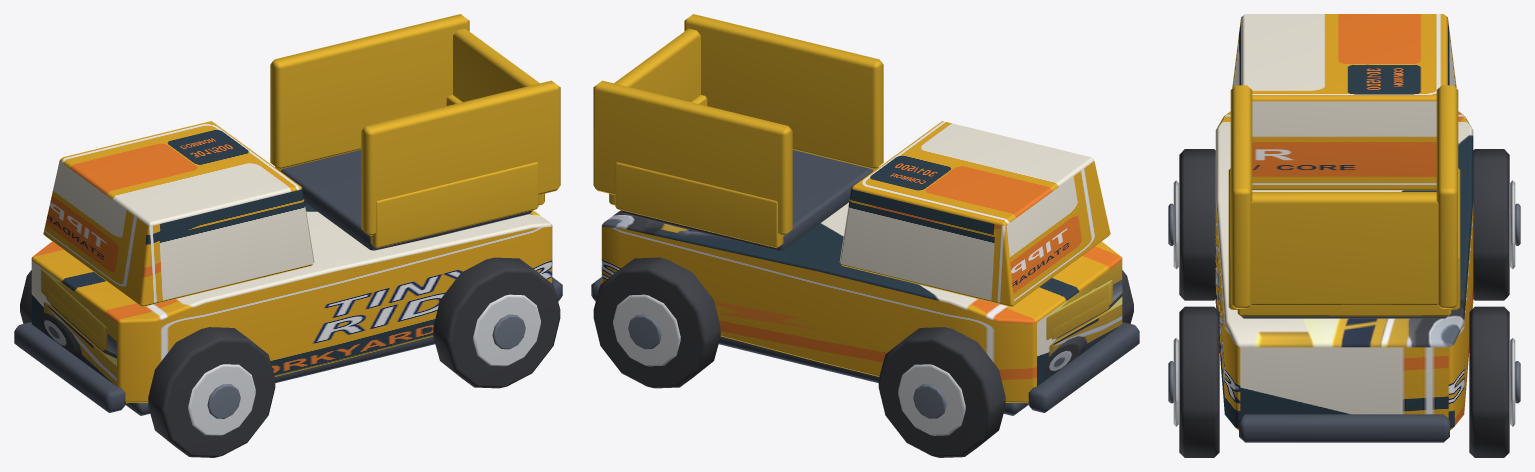
3 renders of one model, left to right at view 1: azimuth 30°, elevation 25°; view 2: azimuth 150°, elevation 25°; view 3: azimuth 270°, elevation 25°, orthographic. The views are drawn at different scales.
Parts seen in each view (by area): view 1: WY-01_connected_shell, WY-01_cabin, raised tipper wall.001, raised tipper wall, Tire, Tire.002, cargo side, cargo floor, raised tail gate, front bumper, Rim, Rim.002 (+3 smaller); view 2: WY-01_connected_shell, WY-01_cabin, raised tipper wall, raised tipper wall.001, Tire.001, Tire.003, cargo side.001, cargo floor, raised tail gate, front bumper, Rim.001, Rim.003 (+3 smaller); view 3: WY-01_cabin, WY-01_connected_shell, raised tail gate, Tire.002, Tire.003, rear bumper, Tire, Tire.001, raised tipper wall, raised tipper wall.001, cargo tail, cargo floor (+6 smaller).
Part boxes in pixels (x1,y1,x2,y2): WY-01_connected_shell: [31, 202, 552, 403]; WY-01_cabin: [43, 121, 314, 307]; raised tipper wall.001: [270, 14, 469, 169]; raised tipper wall: [361, 80, 560, 235]; Tire: [148, 327, 275, 457]; Tire.002: [433, 257, 560, 388]; cargo side: [370, 162, 538, 248]; cargo floor: [280, 150, 532, 250]; raised tail gate: [453, 28, 539, 101]; front bumper: [14, 322, 125, 412]; Rim: [188, 364, 255, 435]; Rim.002: [473, 294, 540, 366]; WY-01_connected_shell: [601, 202, 1122, 403]; WY-01_cabin: [839, 121, 1110, 307]; raised tipper wall: [684, 14, 883, 169]; raised tipper wall.001: [593, 80, 792, 235]; Tire.001: [878, 327, 1005, 457]; Tire.003: [593, 257, 720, 388]; cargo side.001: [615, 162, 783, 248]; cargo floor: [621, 150, 873, 250]; raised tail gate: [614, 28, 700, 101]; front bumper: [1028, 322, 1139, 412]; Rim.001: [898, 364, 965, 435]; Rim.003: [613, 294, 680, 366]; WY-01_cabin: [1232, 14, 1456, 190]; WY-01_connected_shell: [1215, 111, 1473, 430]; raised tail gate: [1250, 192, 1438, 305]; Tire.002: [1179, 306, 1219, 457]; Tire.003: [1469, 306, 1509, 457]; rear bumper: [1239, 414, 1449, 442]; Tire: [1179, 149, 1215, 300]; Tire.001: [1473, 149, 1509, 300]; raised tipper wall: [1230, 85, 1252, 308]; raised tipper wall.001: [1436, 85, 1458, 308]; cargo tail: [1237, 306, 1451, 316]; cargo floor: [1241, 316, 1447, 318].
Bounding box in the file's own units: 387 × 216 × 227.
